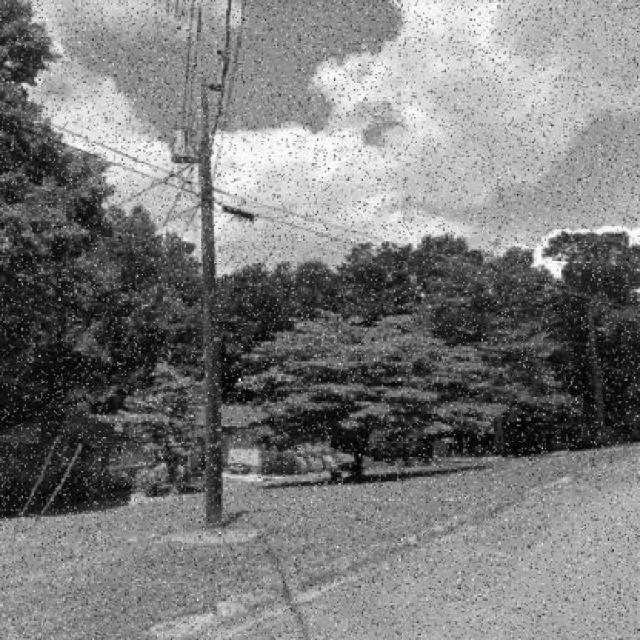light_pole: (140, 28, 256, 536)
